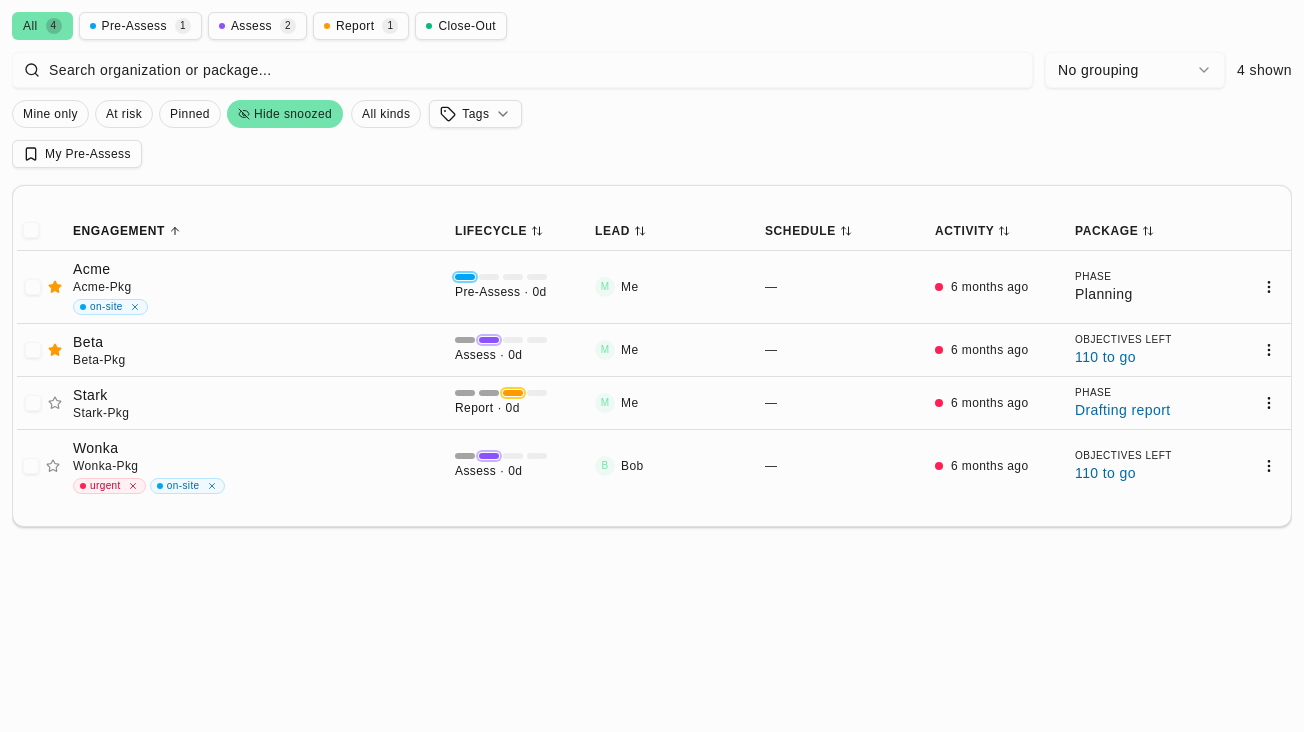
it: <EngagementsList> integration › phase tab click filters the list to that phase
What coordinates should you click on to do the following:
click the tab "Report 1"
I would click on:
 (361, 26)
Its box is [313, 12, 409, 40].
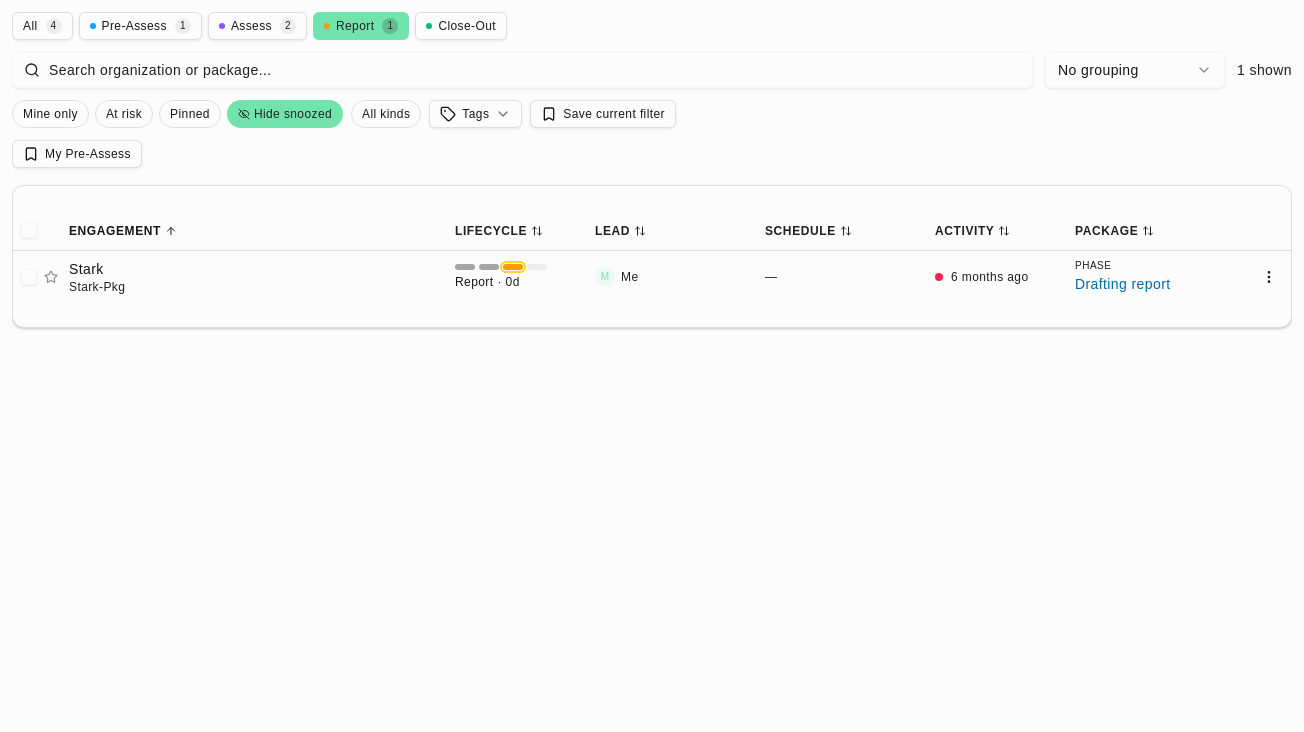
Result: the link "Acme" is gone
Result: the link "Beta" is gone
Result: the link "Wonka" is gone
